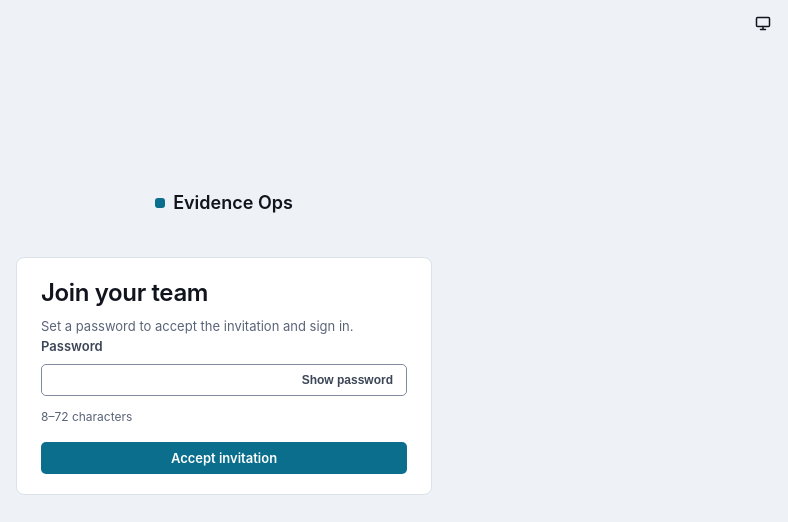
InvitePage › shows the server-authored reason for a rejected redemption, verbatim, and replaces the form with a recovery path
Type "correct-horse-battery" into the password field labelled "Password". click: (224, 380)
box: [41,364,407,396]
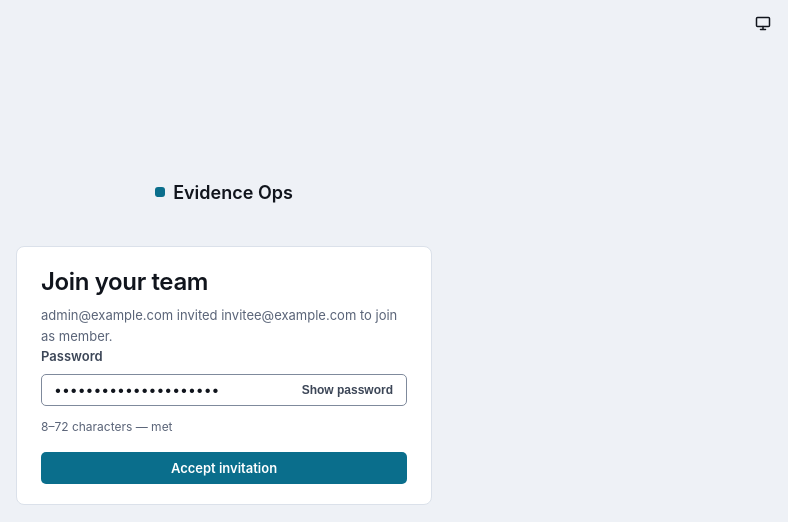
Click the button "Accept invitation". click: click(224, 468)
box: [41,452,407,484]
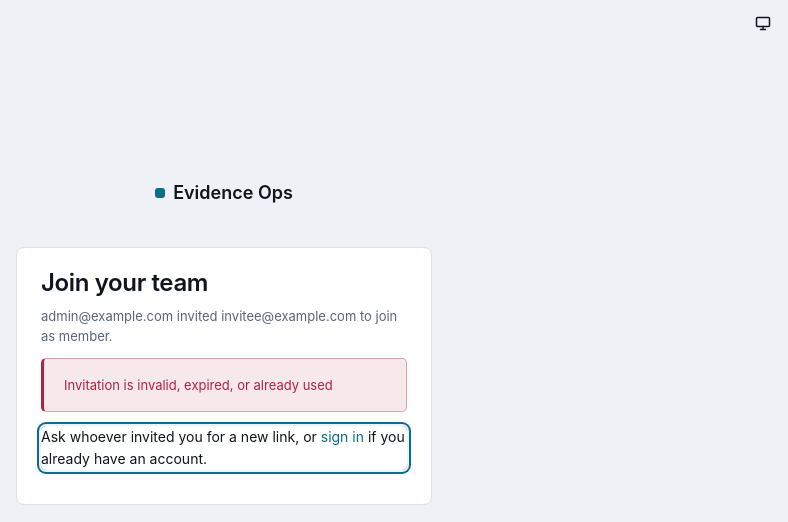
Expected: the message reads "Invitation is invalid, expired, or already used", [64,377,333,393]
Expected: the label labelled "Password" is gone
